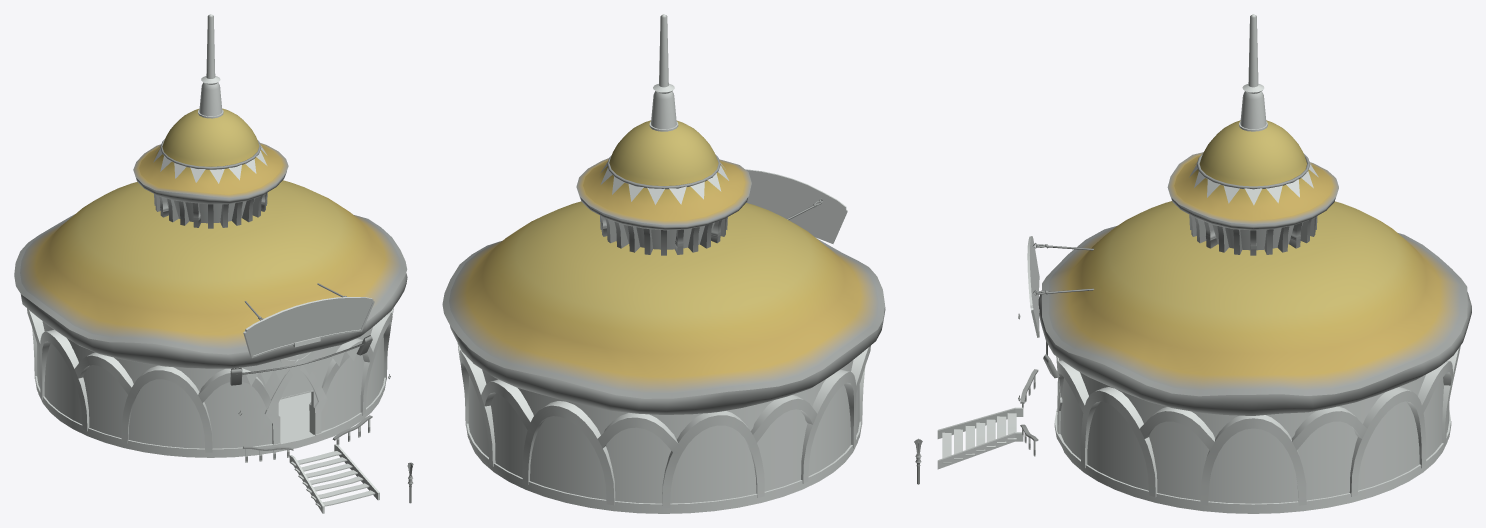
3 renders of one model, left to right at view 1: azimuth 30°, elevation 25°; view 2: azimuth 150°, elevation 25°; view 3: azimuth 270°, elevation 25°, orthographic. The views are drawn at different scales.
Parts seen in each view (by area): view 1: G:\FFXIV-MapTools\exports\y6f2\bg\ex5\02_ykt_y6\fld\y6f2\bgp (×9); view 2: G:\FFXIV-MapTools\exports\y6f2\bg\ex5\02_ykt_y6\fld\y6f2\bgp (×8); view 3: G:\FFXIV-MapTools\exports\y6f2\bg\ex5\02_ykt_y6\fld\y6f2\bgp (×8).
Boxes of the visible parts, box(x1,y1,x2,y2) form: G:\FFXIV-MapTools\exports\y6f2\bg\ex5\02_ykt_y6\fld\y6f2\bgp (×9): box(14, 14, 407, 513); G:\FFXIV-MapTools\exports\y6f2\bg\ex5\02_ykt_y6\fld\y6f2\bgp (×8): box(442, 14, 885, 513); G:\FFXIV-MapTools\exports\y6f2\bg\ex5\02_ykt_y6\fld\y6f2\bgp (×8): box(937, 14, 1471, 513).
Bounding box in the file's own units: 30.53 × 33.56 × 38.4.
